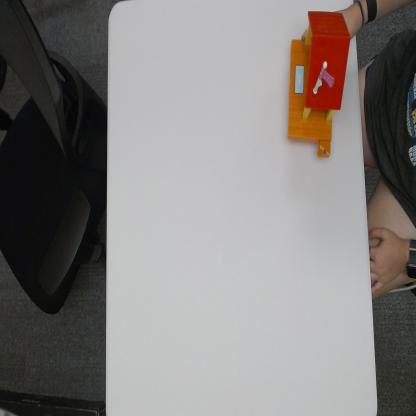Hand: (328, 5, 358, 38)
House: (286, 11, 346, 156)
